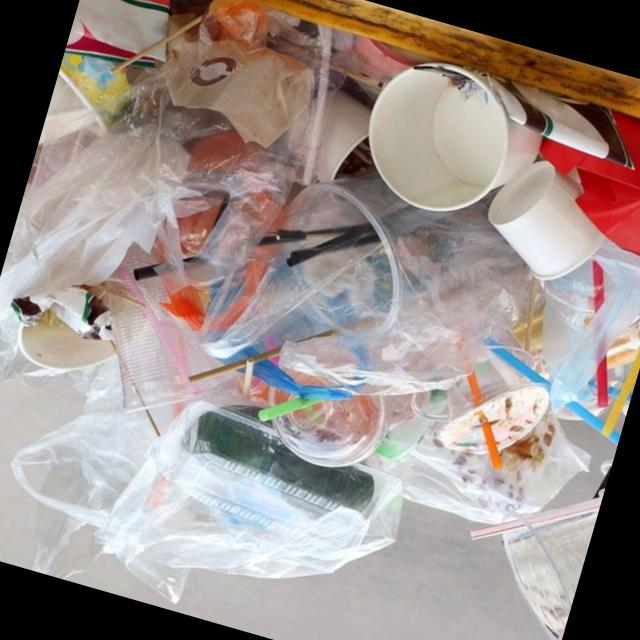GelasPlastik: (261, 157, 518, 376), (421, 342, 552, 478)
